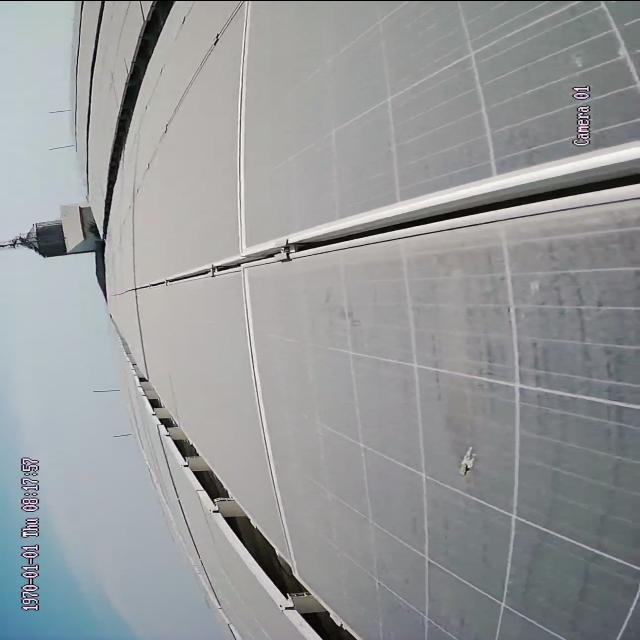interior panel: (116, 151, 639, 295), (235, 272, 297, 548), (229, 15, 254, 247)
outher panel: (129, 356, 374, 639), (105, 0, 183, 188)
